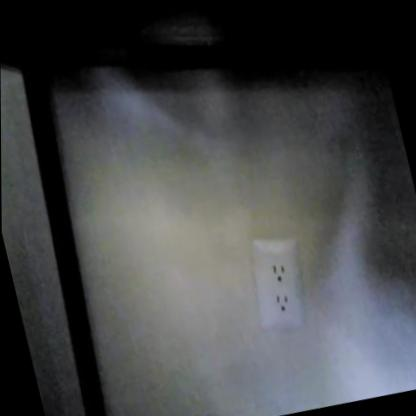OUTLET: (240, 226, 320, 345)
